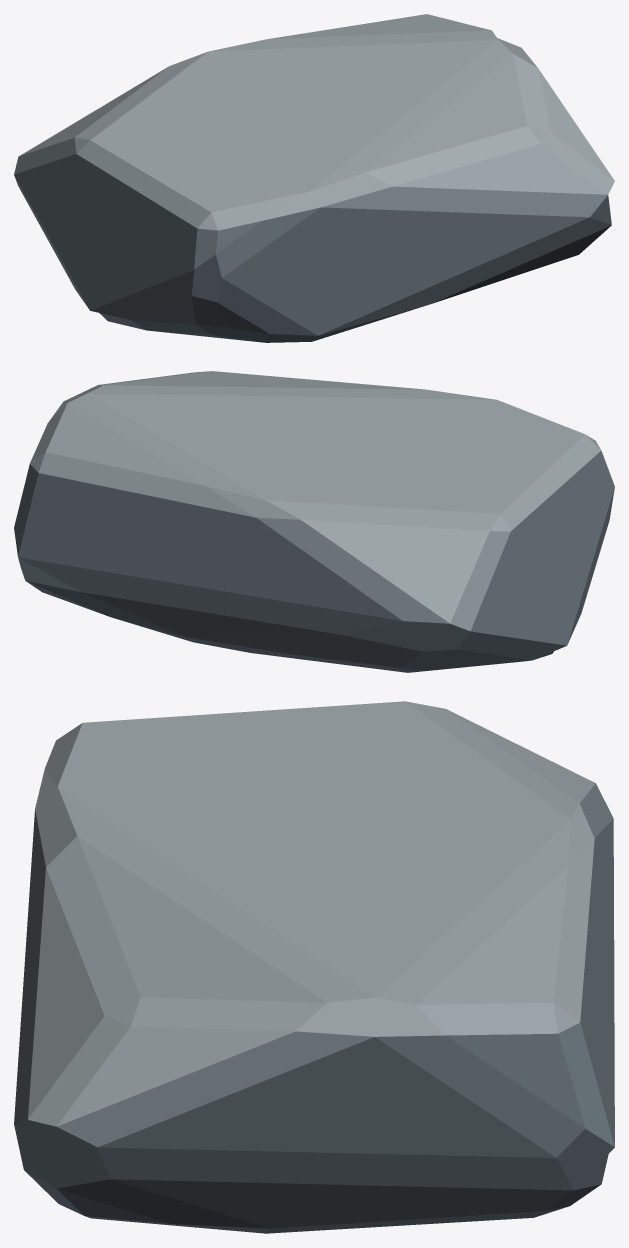
File: boulder-slab.glb
3 views of the same model, one above another, from view 1: azimuth 30°, elevation 25°; view 2: azimuth 150°, elevation 25°; view 3: azimuth 270°, elevation 25° (orthographic). The views are drawn at different scales.
Visible parts, largest first — view 1: boulder-slab; view 2: boulder-slab; view 3: boulder-slab.
Part boxes in pixels (x1,y1,x2,y2): boulder-slab: (14,14,614,342); boulder-slab: (14,371,614,672); boulder-slab: (14,701,614,1233).
Size of the model in its own units: 1.4 by 0.4797 by 0.9992.
